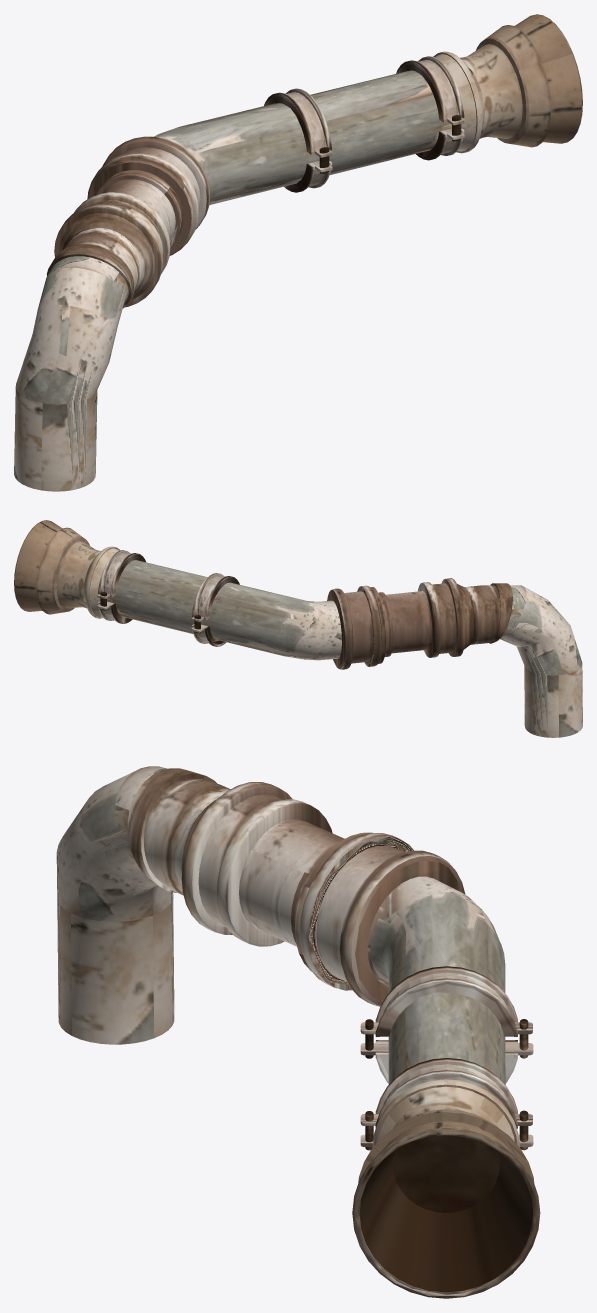
The model's file is WHITE_THICK_ONE.glb.
The picture shows the model from 3 angles, top to bottom: view 1: azimuth 30°, elevation 25°; view 2: azimuth 150°, elevation 25°; view 3: azimuth 270°, elevation 25°; orthographic projection. The views are drawn at different scales.
Parts seen in each view (by area): view 1: WHITE THICK ONE; view 2: WHITE THICK ONE; view 3: WHITE THICK ONE.
Part boxes in pixels (x1,y1,x2,y2): WHITE THICK ONE: [14, 14, 582, 491]; WHITE THICK ONE: [14, 520, 582, 737]; WHITE THICK ONE: [56, 766, 540, 1298].
Bounding box in the file's own units: 9.97 × 3.27 × 4.54.
Materials: 1 (1 with a texture image).
